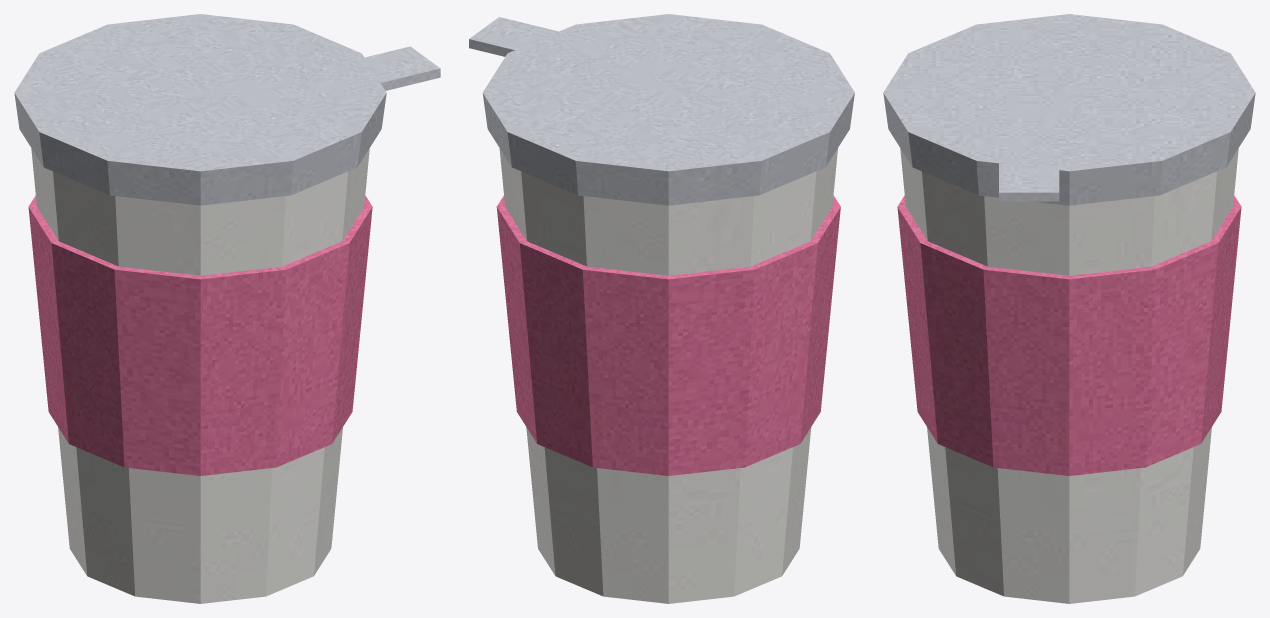
3 views of the same model, side by side, from view 1: azimuth 30°, elevation 25°; view 2: azimuth 150°, elevation 25°; view 3: azimuth 270°, elevation 25° (orthographic).
Visible parts, largest first — view 1: yogurt_cup; view 2: yogurt_cup; view 3: yogurt_cup.
Boxes of the visible parts, <box> form: yogurt_cup: <box>14,14,440,603</box>; yogurt_cup: <box>469,14,854,603</box>; yogurt_cup: <box>883,14,1255,603</box>.
Size of the model in its own units: 0.084 by 0.1 by 0.074.
3 materials, 3 textured.
